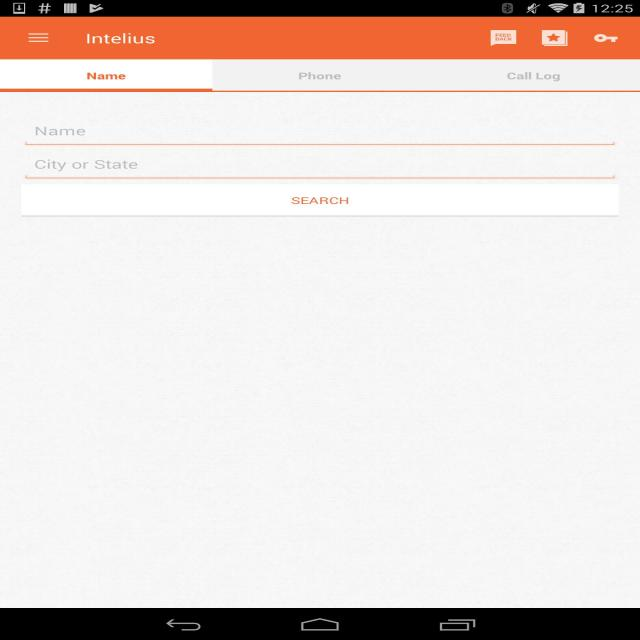button: (22, 185, 620, 215), (6, 60, 212, 90), (441, 61, 640, 91), (215, 62, 436, 89), (483, 28, 524, 48), (534, 28, 573, 48), (586, 28, 624, 48), (24, 29, 52, 49)
field: (22, 149, 615, 179), (22, 118, 616, 144)
heading: (81, 30, 159, 47)
label: (31, 156, 145, 173), (30, 122, 88, 141)
